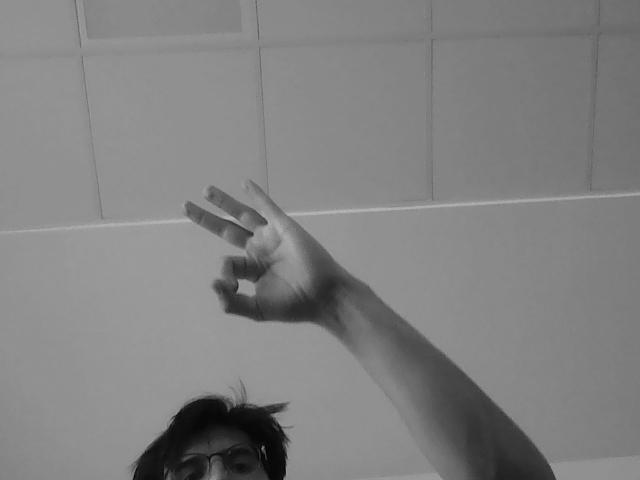OK: (177, 178, 354, 327)
